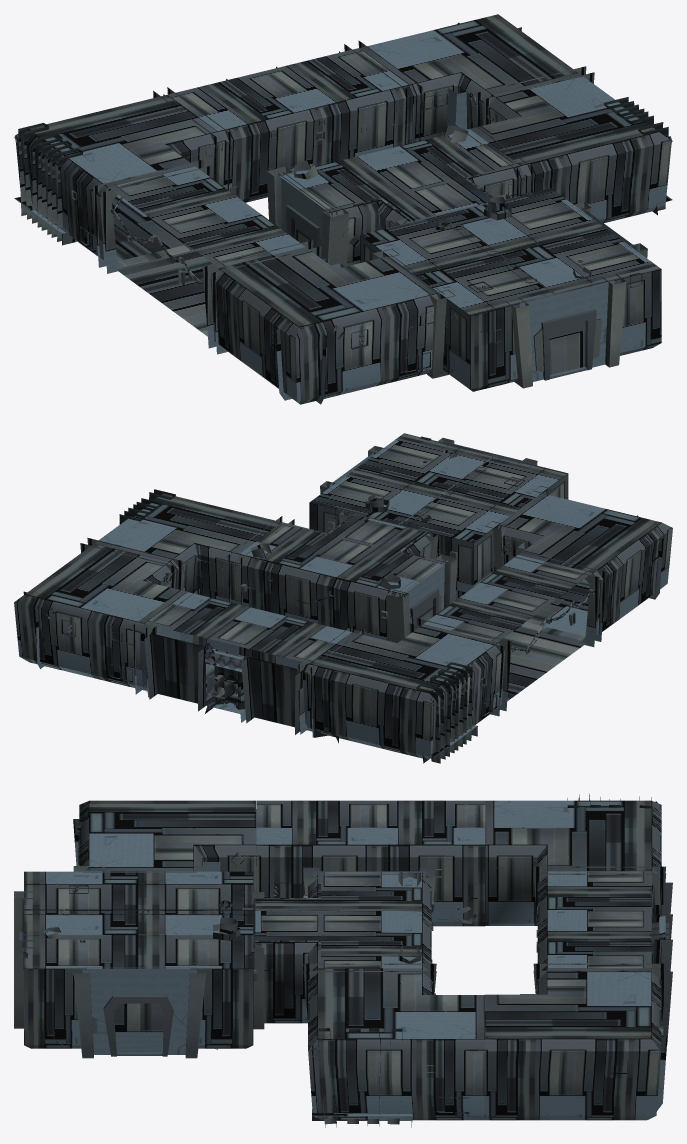
File: Combined_Mesh_root_scene__19_0bed480f__zombies2_diffuse_03_64bb9bc2_c1f257.obj
3 renders of one model, top to bottom at view 1: azimuth 30°, elevation 25°; view 2: azimuth 150°, elevation 25°; view 3: azimuth 270°, elevation 25°, orthographic. The views are drawn at different scales.
Bounding box in the file's own units: 51.83 × 9.64 × 57.53.
123 materials, 123 textured.
